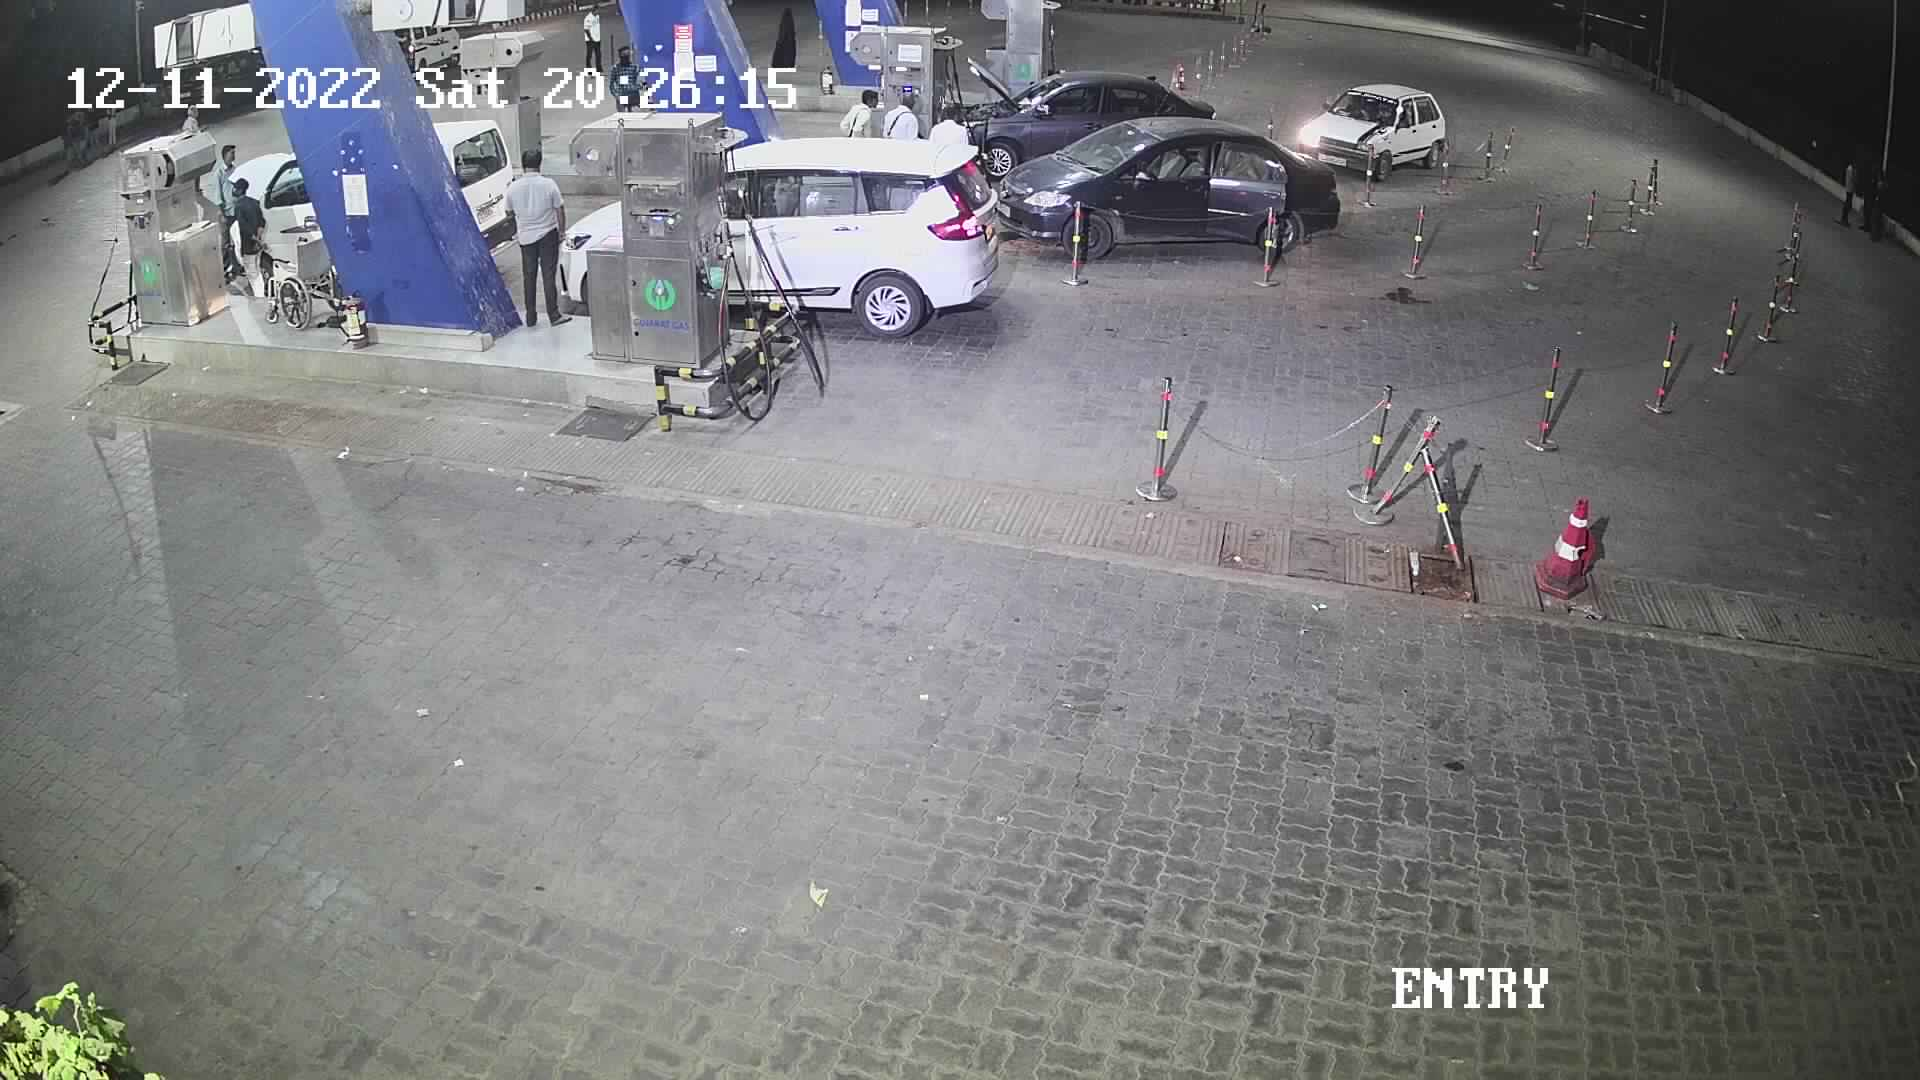Car: (688, 125, 1014, 340), (978, 92, 1335, 274), (952, 47, 1240, 218), (208, 138, 344, 305), (1286, 65, 1458, 193), (419, 107, 524, 248)
